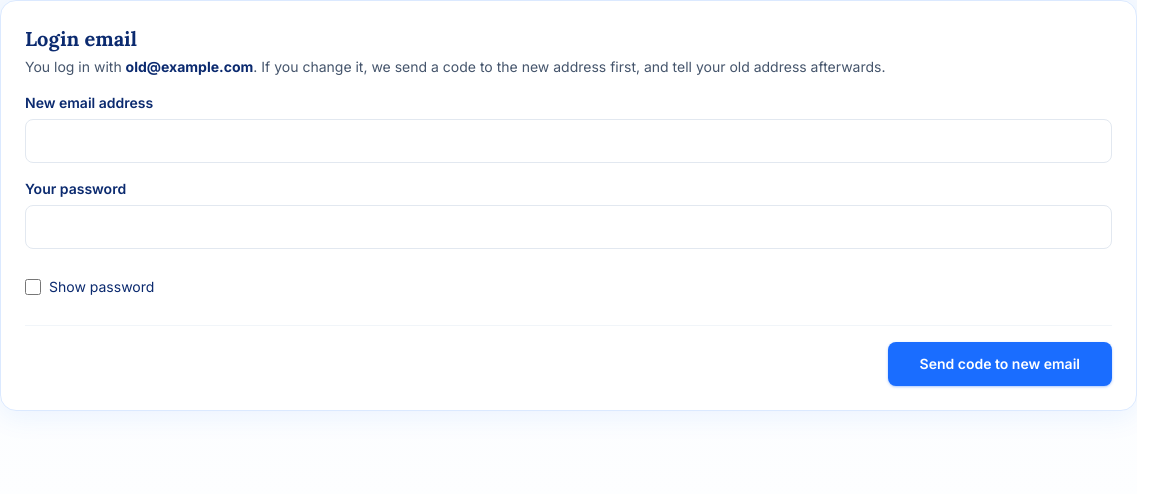
Test case: changing the login email › checks the new address and the password before asking the server
Click the button "Send code to new email" at coordinates (1000, 364), box [888,342,1112,386]
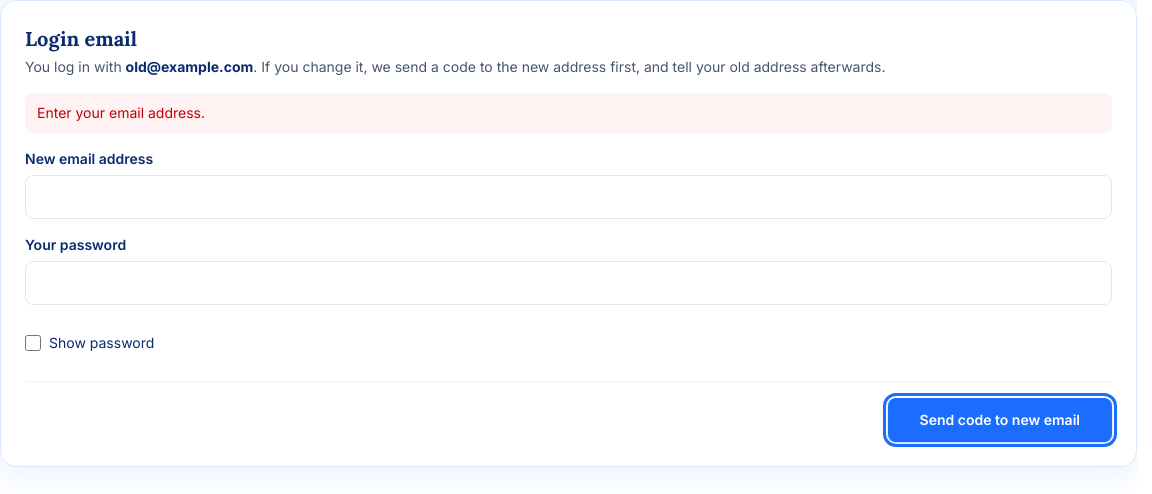
Check: the message shows "email", box [37,104,205,121]
Type "old@example.com" into the field labelled "New email address" at coordinates (568, 197), box [25,175,1112,219]
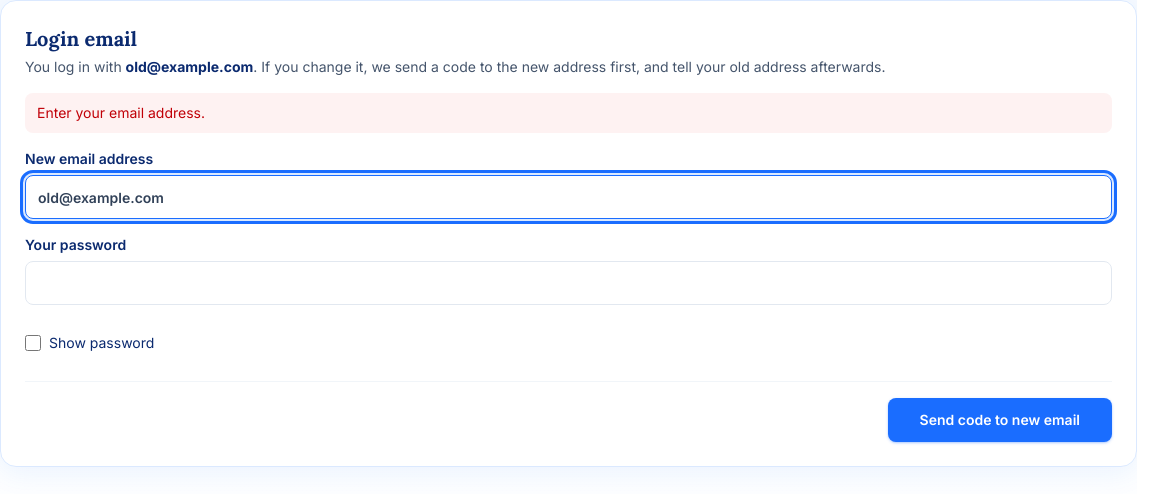
Type "Secret1234" into the password field labelled "Your password" at coordinates (568, 283), box [25,261,1112,305]
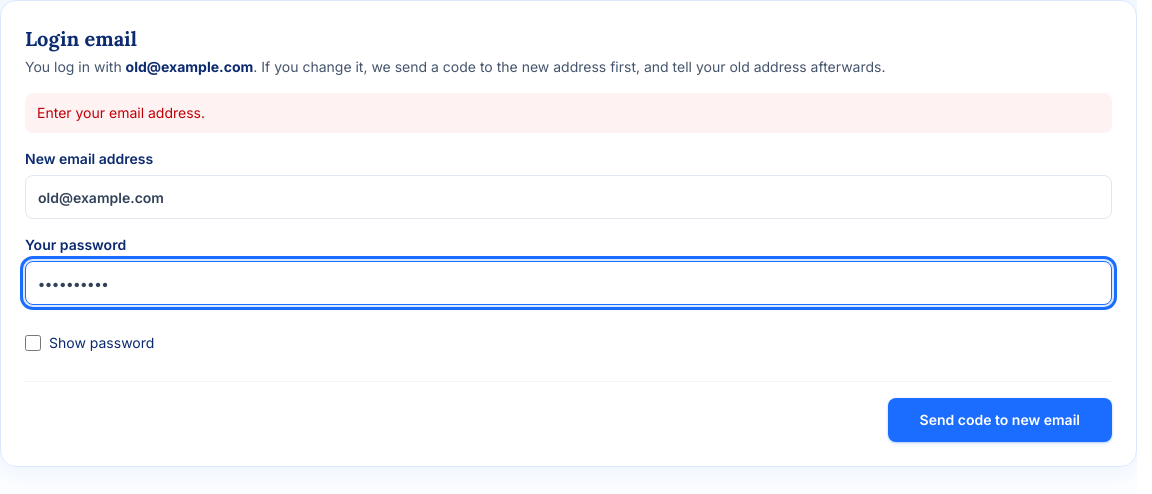
Click the button "Send code to new email" at coordinates (1000, 420), box [888,398,1112,442]
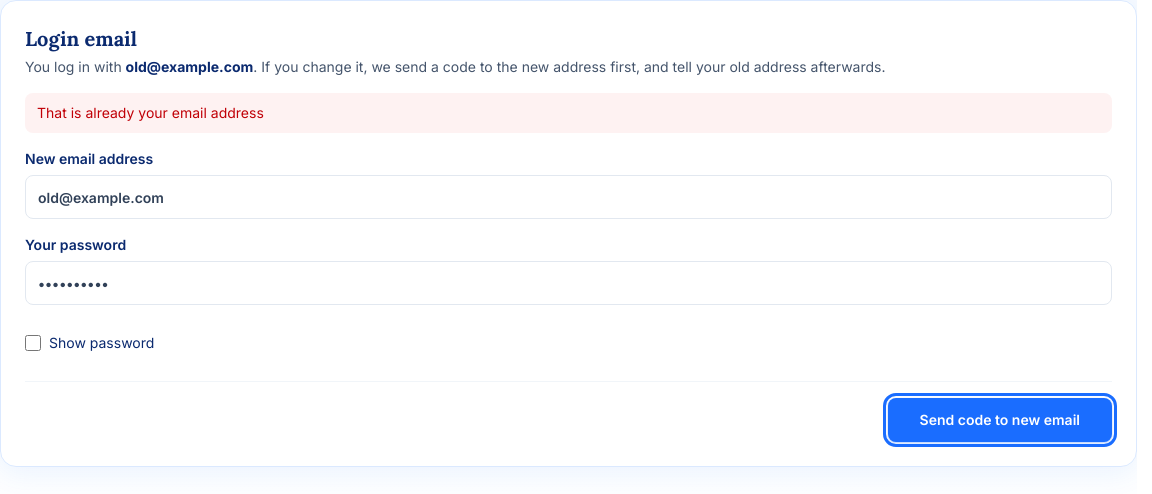
Check: the message reads "That is already your email address", box [37,104,264,121]
